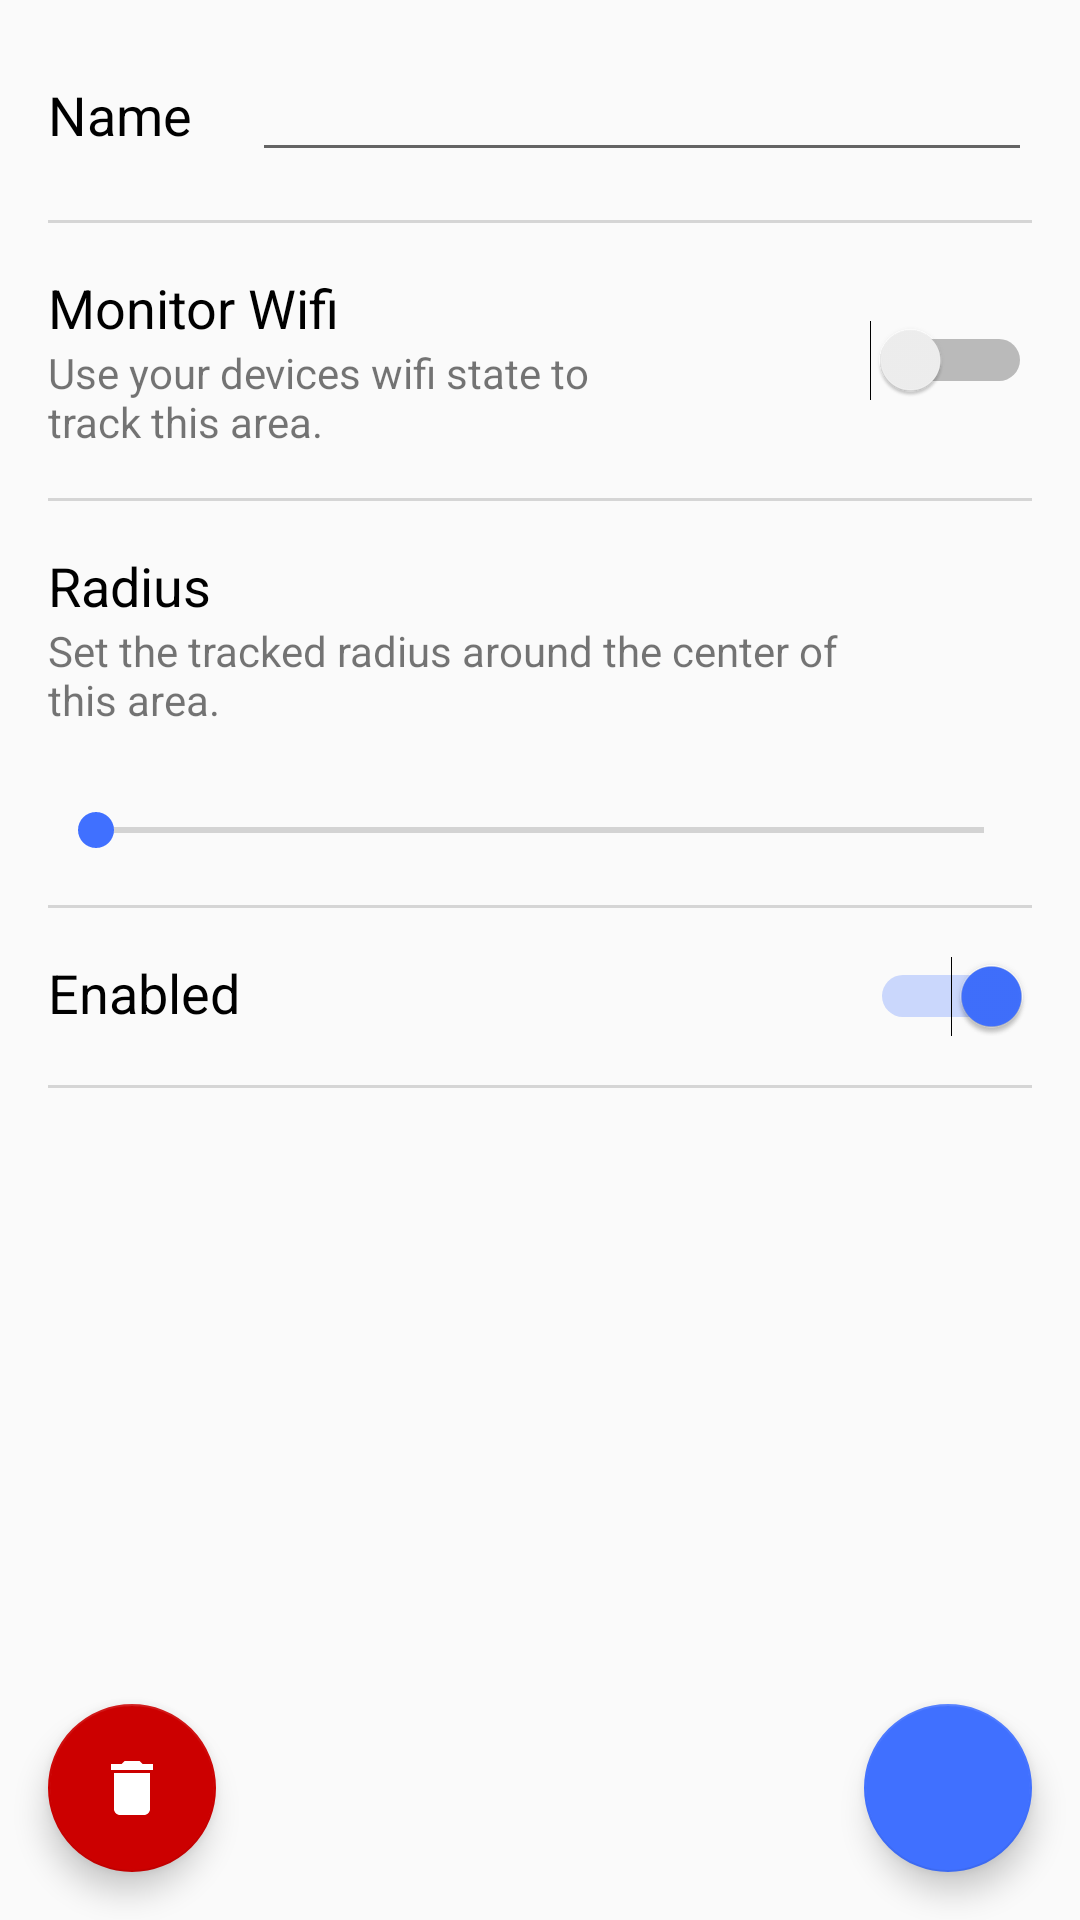

Screen size 1080 × 1920. Icon name, then its box in pixels as region(x1, y1, x2, y2):
delete: region(48, 1704, 216, 1872)
